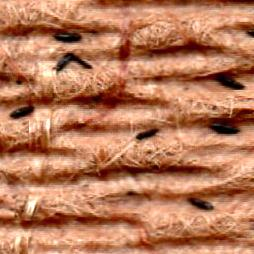egg: (53, 53, 91, 71), (215, 73, 244, 89), (10, 107, 33, 118), (210, 124, 238, 133), (190, 198, 213, 208), (54, 33, 80, 41), (136, 130, 158, 139), (247, 30, 253, 37)
